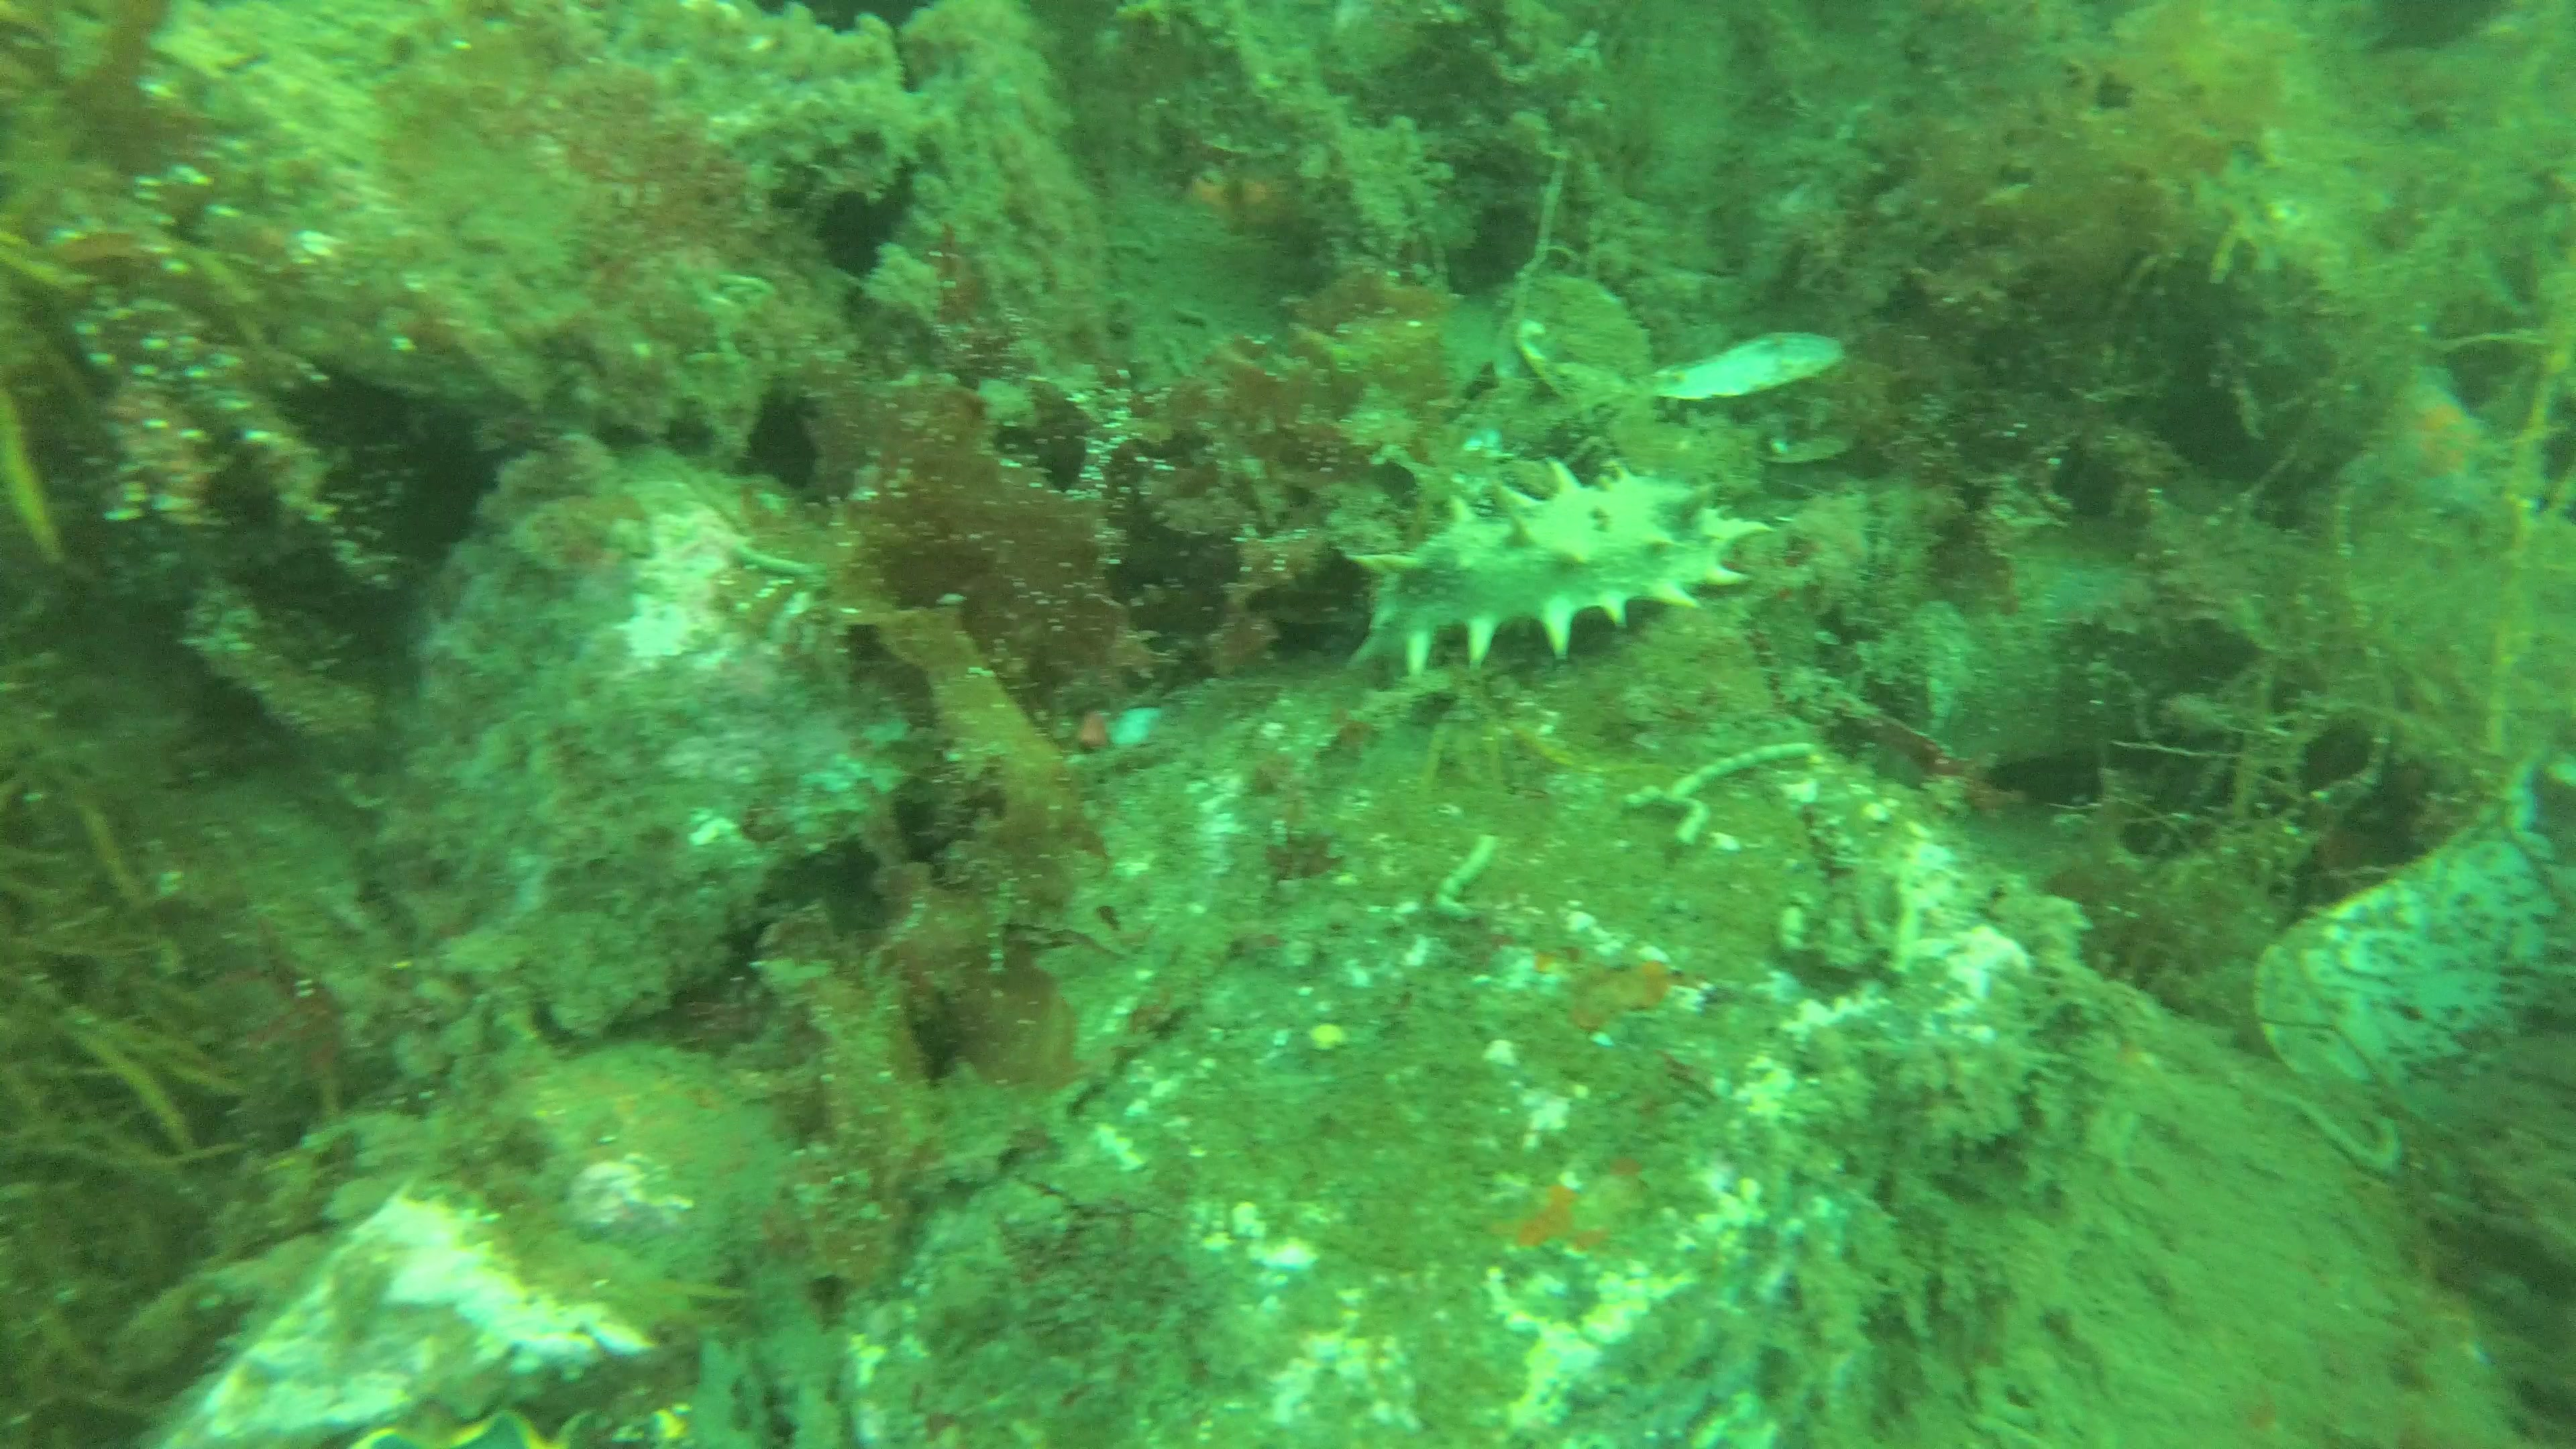holothurian: (1336, 460, 1778, 679)
